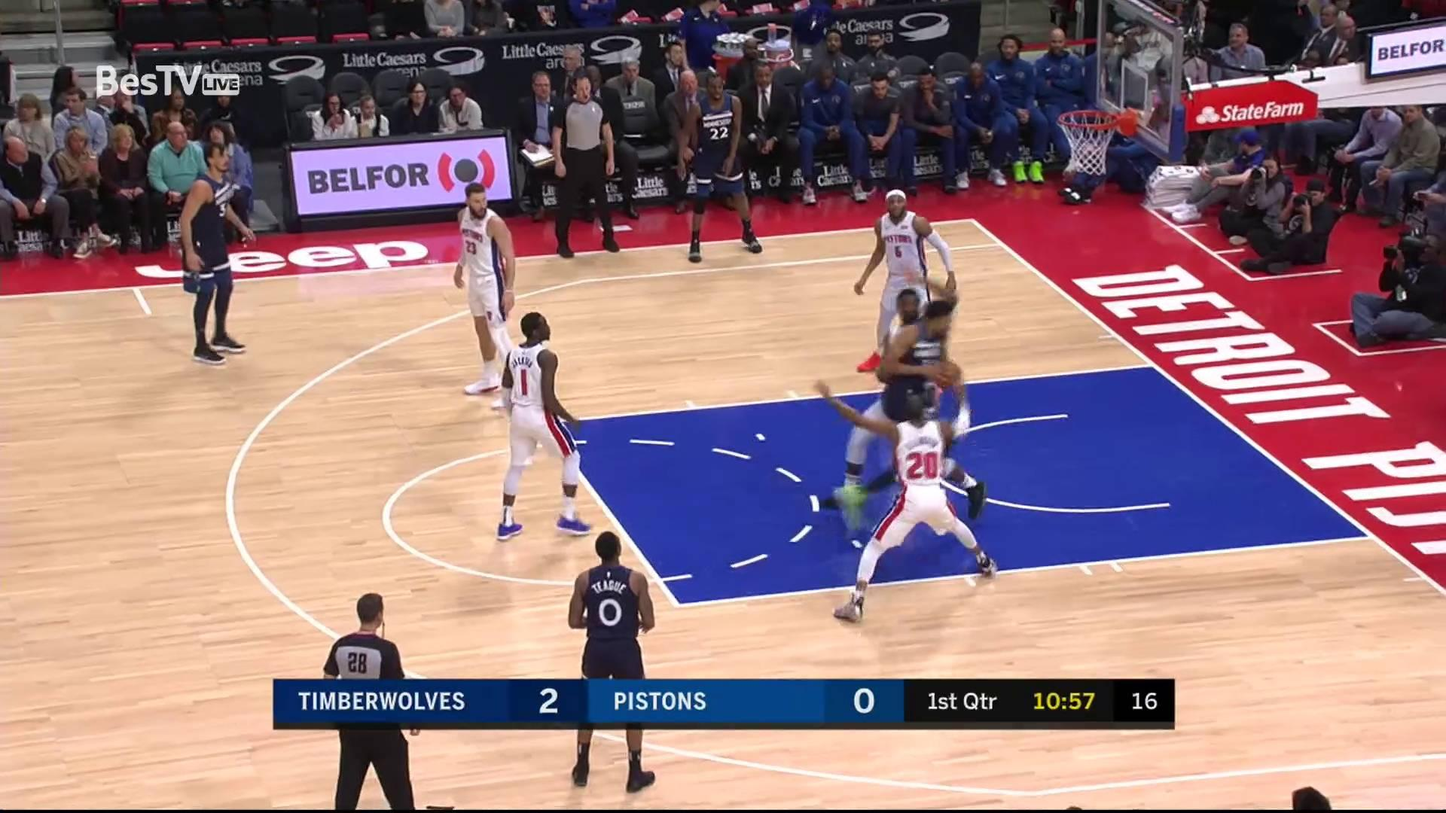basketball: (934, 360, 962, 389)
